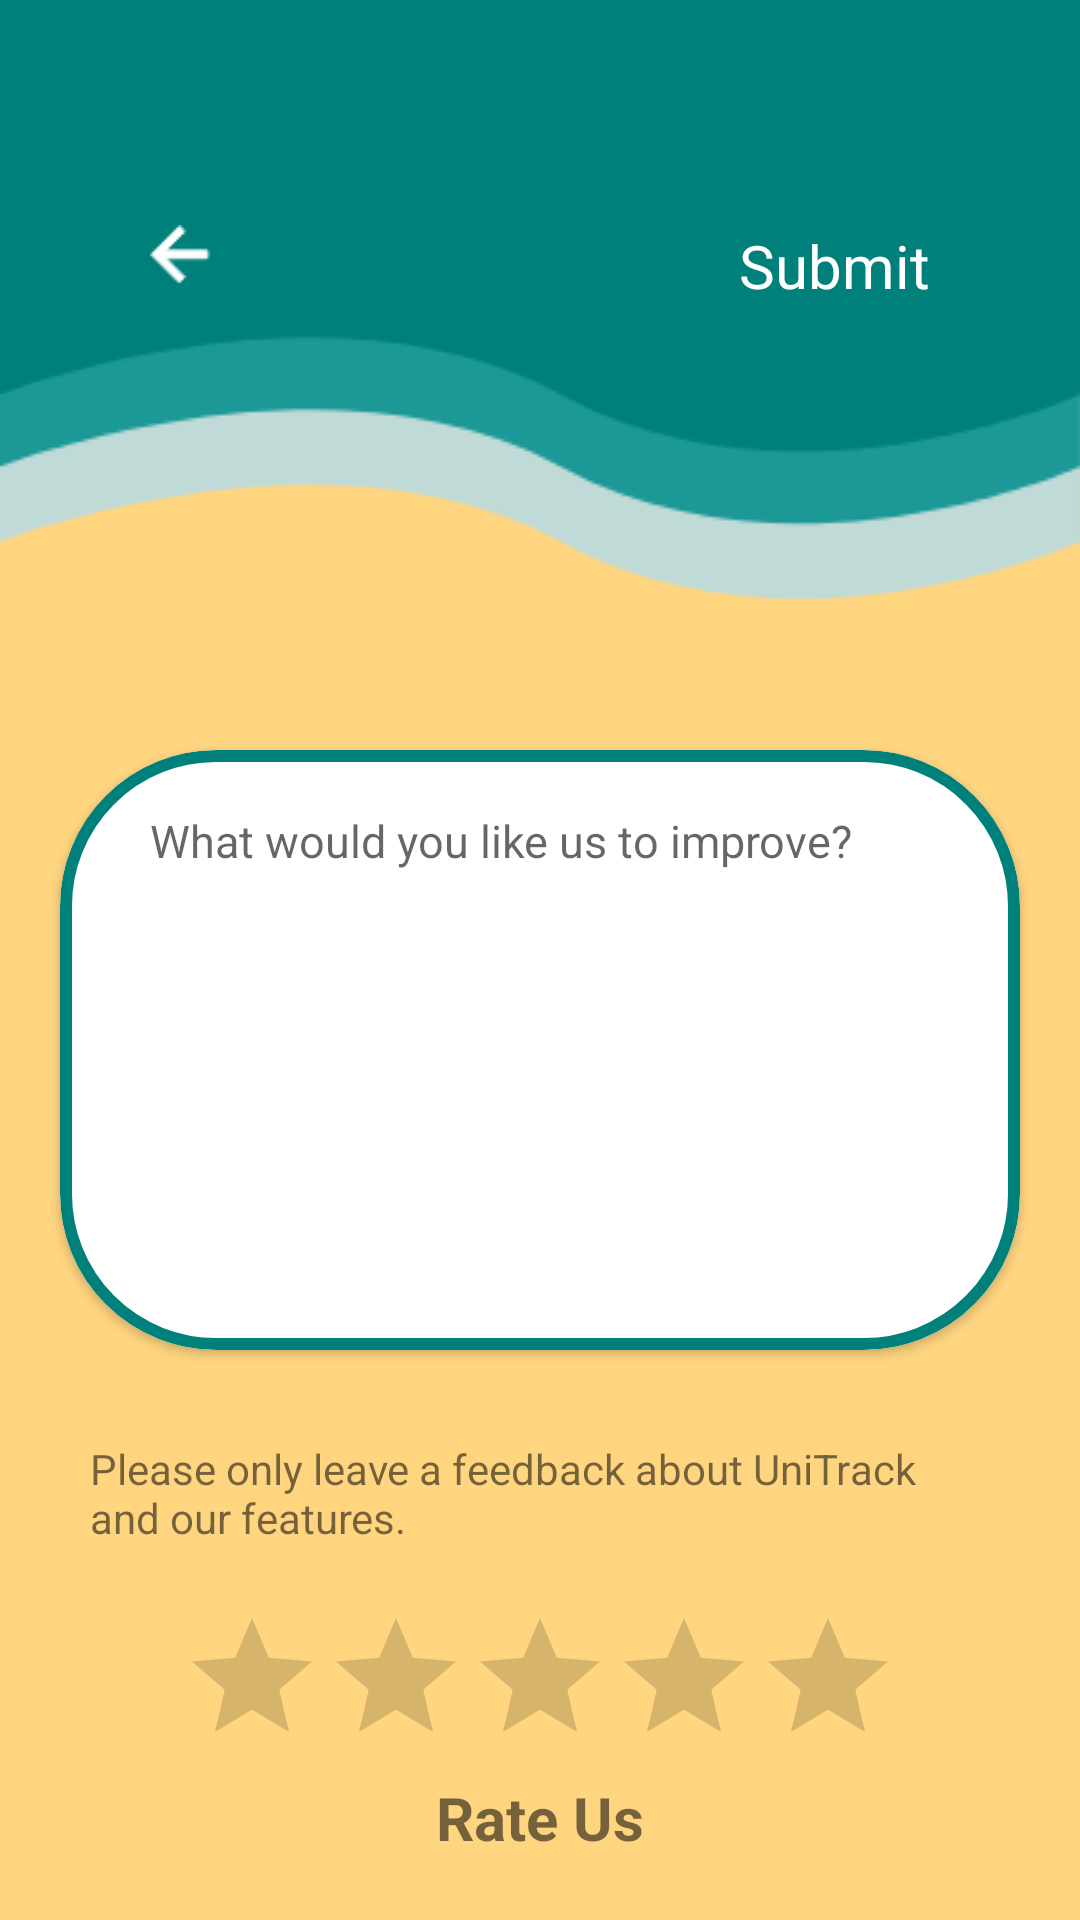

Icons on this 1080 × 1920 Android screen, each with the point to tap as [x,y]:
arrow back: [180,254]
